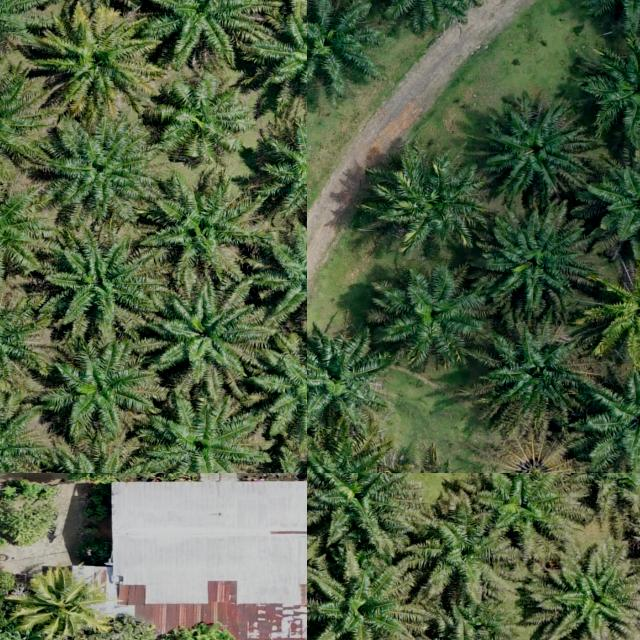Ganoderma: (601, 277, 640, 349), (494, 444, 569, 473)
